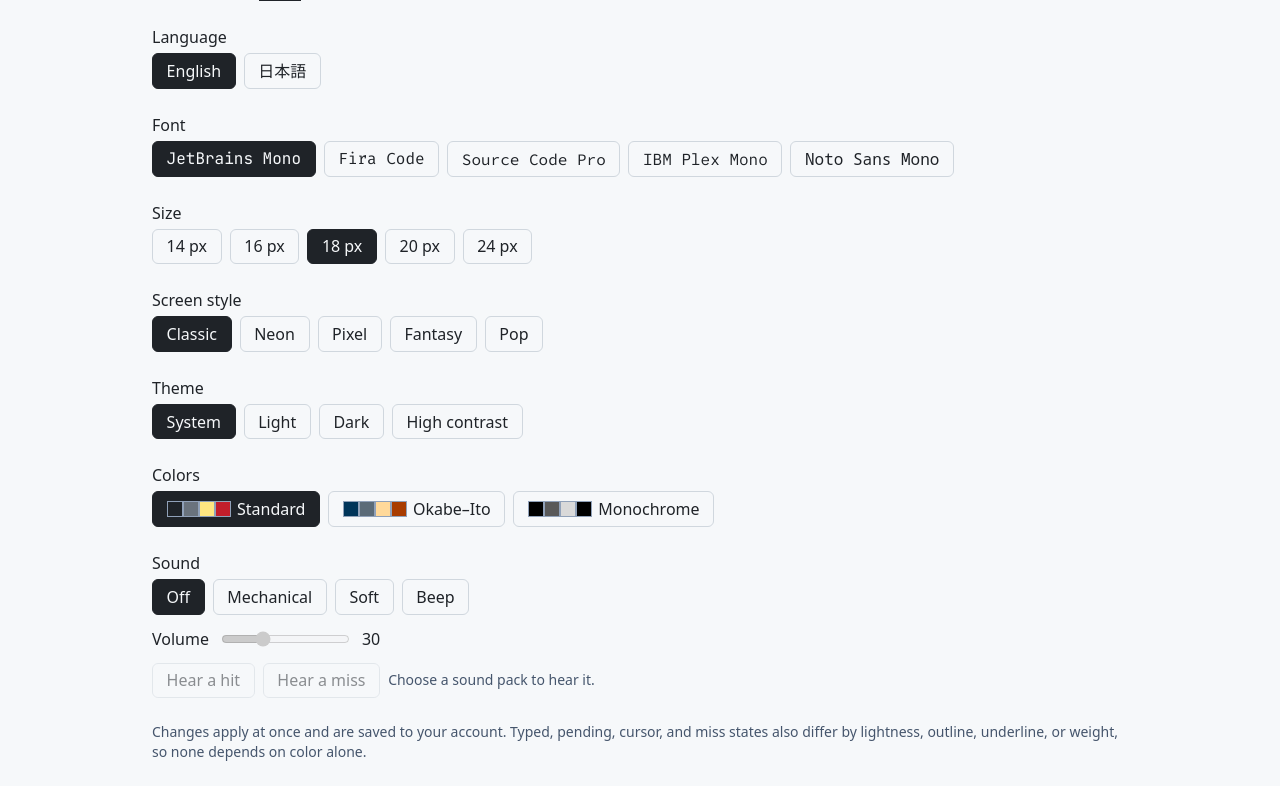
Test case: the key sound settings › applies a new volume to the player and saves it
The width and height of the screenshot is (1280, 786).
(page scrolled)
Click the button "Beep": (435, 597) [402,579,469,615]
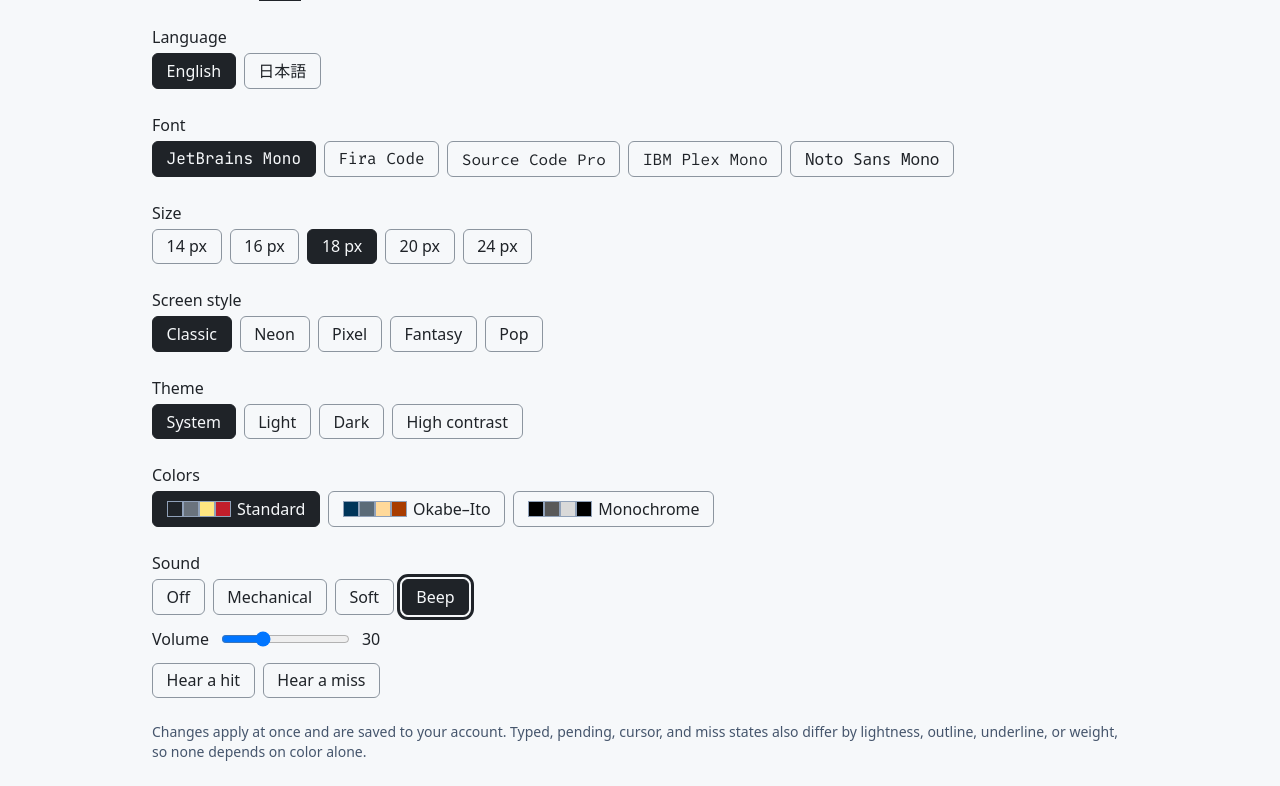
Set the slider to "75": (314, 638) [221,630,350,646]
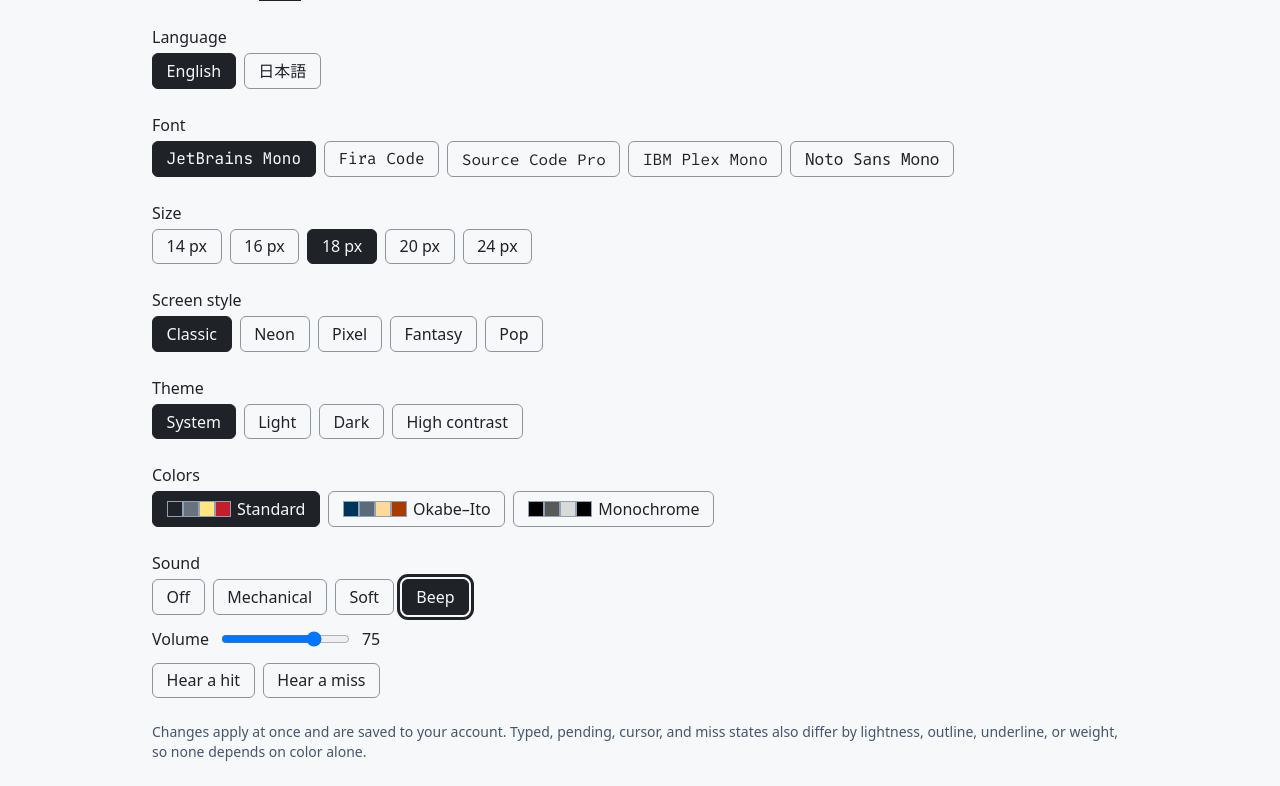
Now the text "75" is shown, box [362,628,380,650]
